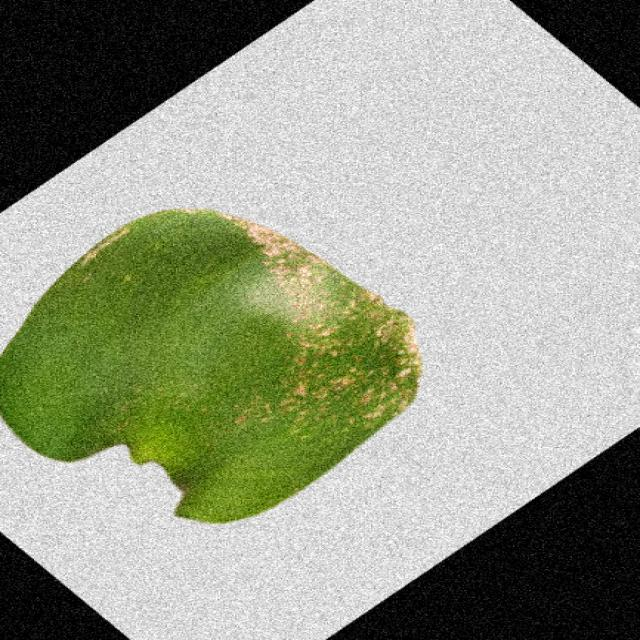daun berpenyakit bercak: (2, 210, 421, 522)
